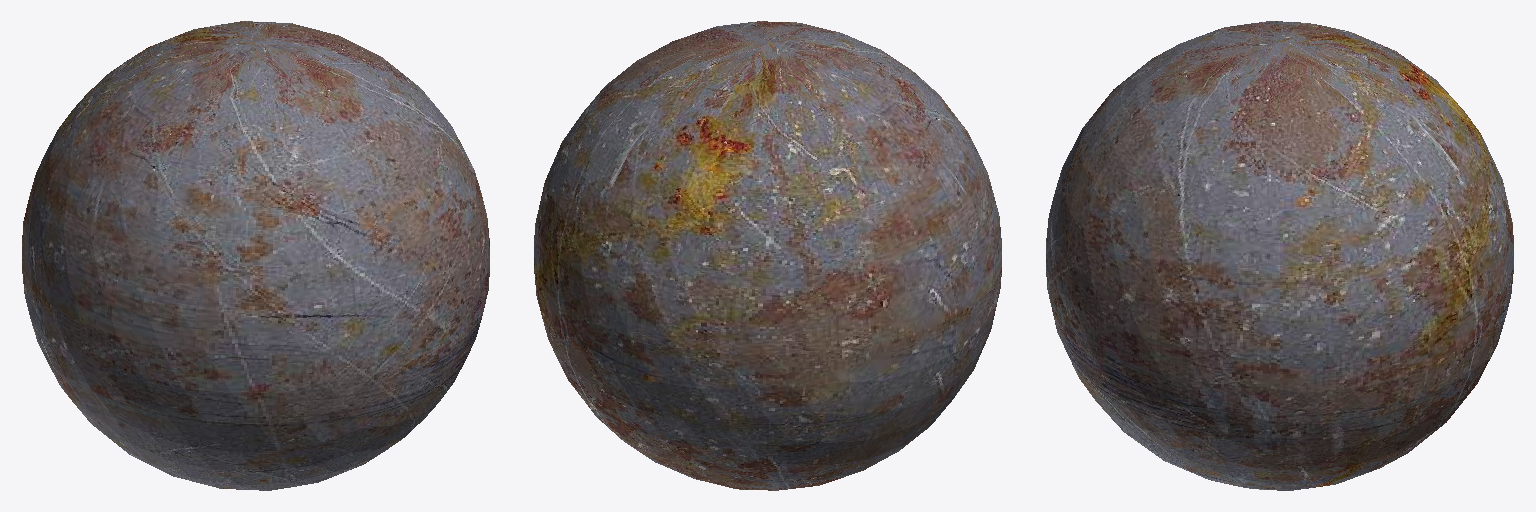
3 renders of one model, left to right at view 1: azimuth 30°, elevation 25°; view 2: azimuth 150°, elevation 25°; view 3: azimuth 270°, elevation 25°, orthographic.
Parts seen in each view (by area): view 1: cannonBall; view 2: cannonBall; view 3: cannonBall.
Boxes of the visible parts, x1=… form: cannonBall: x1=22, y1=21, x2=489, y2=490; cannonBall: x1=534, y1=21, x2=1001, y2=490; cannonBall: x1=1046, y1=21, x2=1513, y2=490.
Size of the model in its own units: 1.2 by 1.2 by 1.19.
Materials: 1 (1 with a texture image).